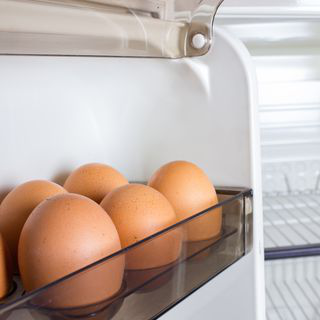egg: (2, 158, 228, 307)
